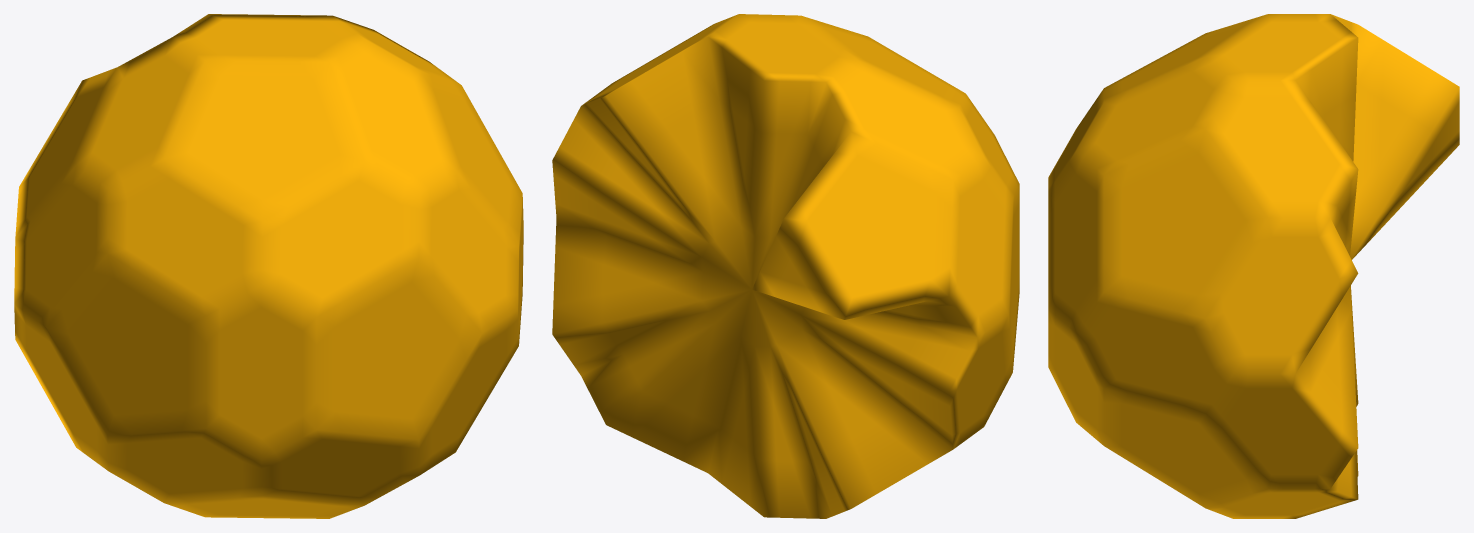
The model's file is testvc.obj.
3 renders of one model, left to right at view 1: azimuth 30°, elevation 25°; view 2: azimuth 150°, elevation 25°; view 3: azimuth 270°, elevation 25°, orthographic. The views are drawn at different scales.
Parts seen in each view (by area): view 1: 0; view 2: 0; view 3: 0.
Boxes of the visible parts, box(x1,y1,x2,y2) form: 0: box(14, 14, 523, 518); 0: box(552, 14, 1019, 518); 0: box(1048, 14, 1459, 518).
Size of the model in its own units: 388 by 369 by 314.
